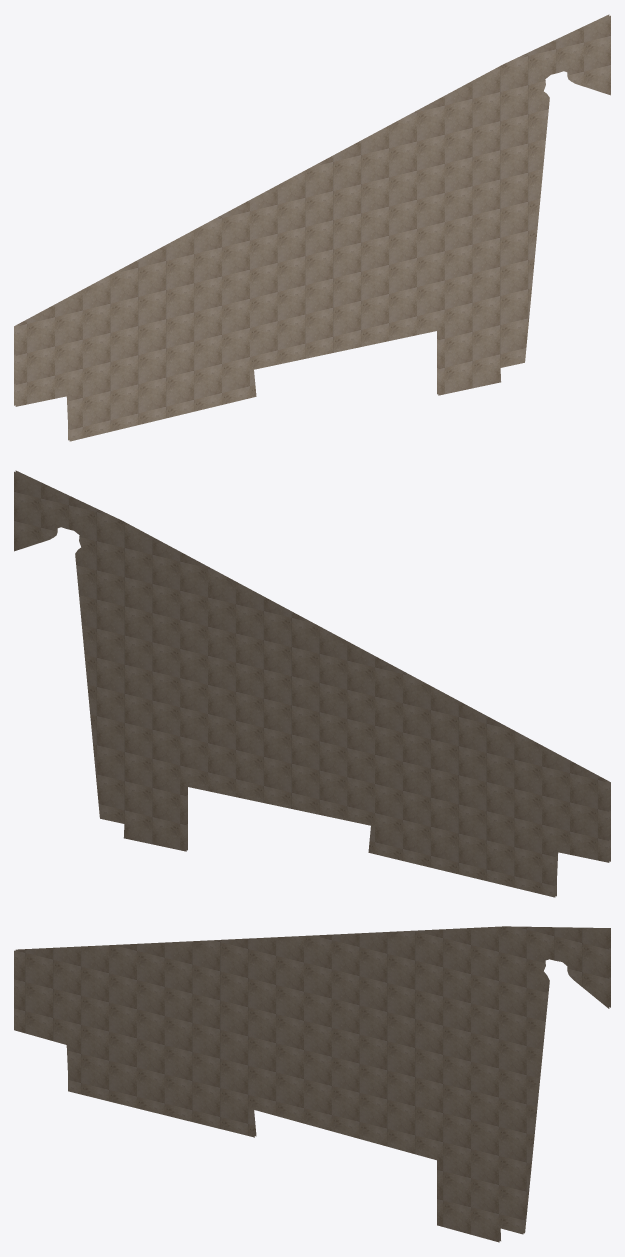
Rendered from floor_2.obj.
The picture shows the model from 3 angles, top to bottom: view 1: azimuth 30°, elevation 25°; view 2: azimuth 150°, elevation 25°; view 3: azimuth 330°, elevation 25°; orthographic projection.
Parts seen in each view (by area): view 1: floor_2; view 2: floor_2; view 3: floor_2.
Part boxes in pixels (bbox=[...]): floor_2: bbox=[14, 14, 610, 441]; floor_2: bbox=[14, 470, 610, 897]; floor_2: bbox=[14, 926, 610, 1242].
Size of the model in its own units: 21.38 by 11.67 by 0.1.
1 material, 1 textured.
